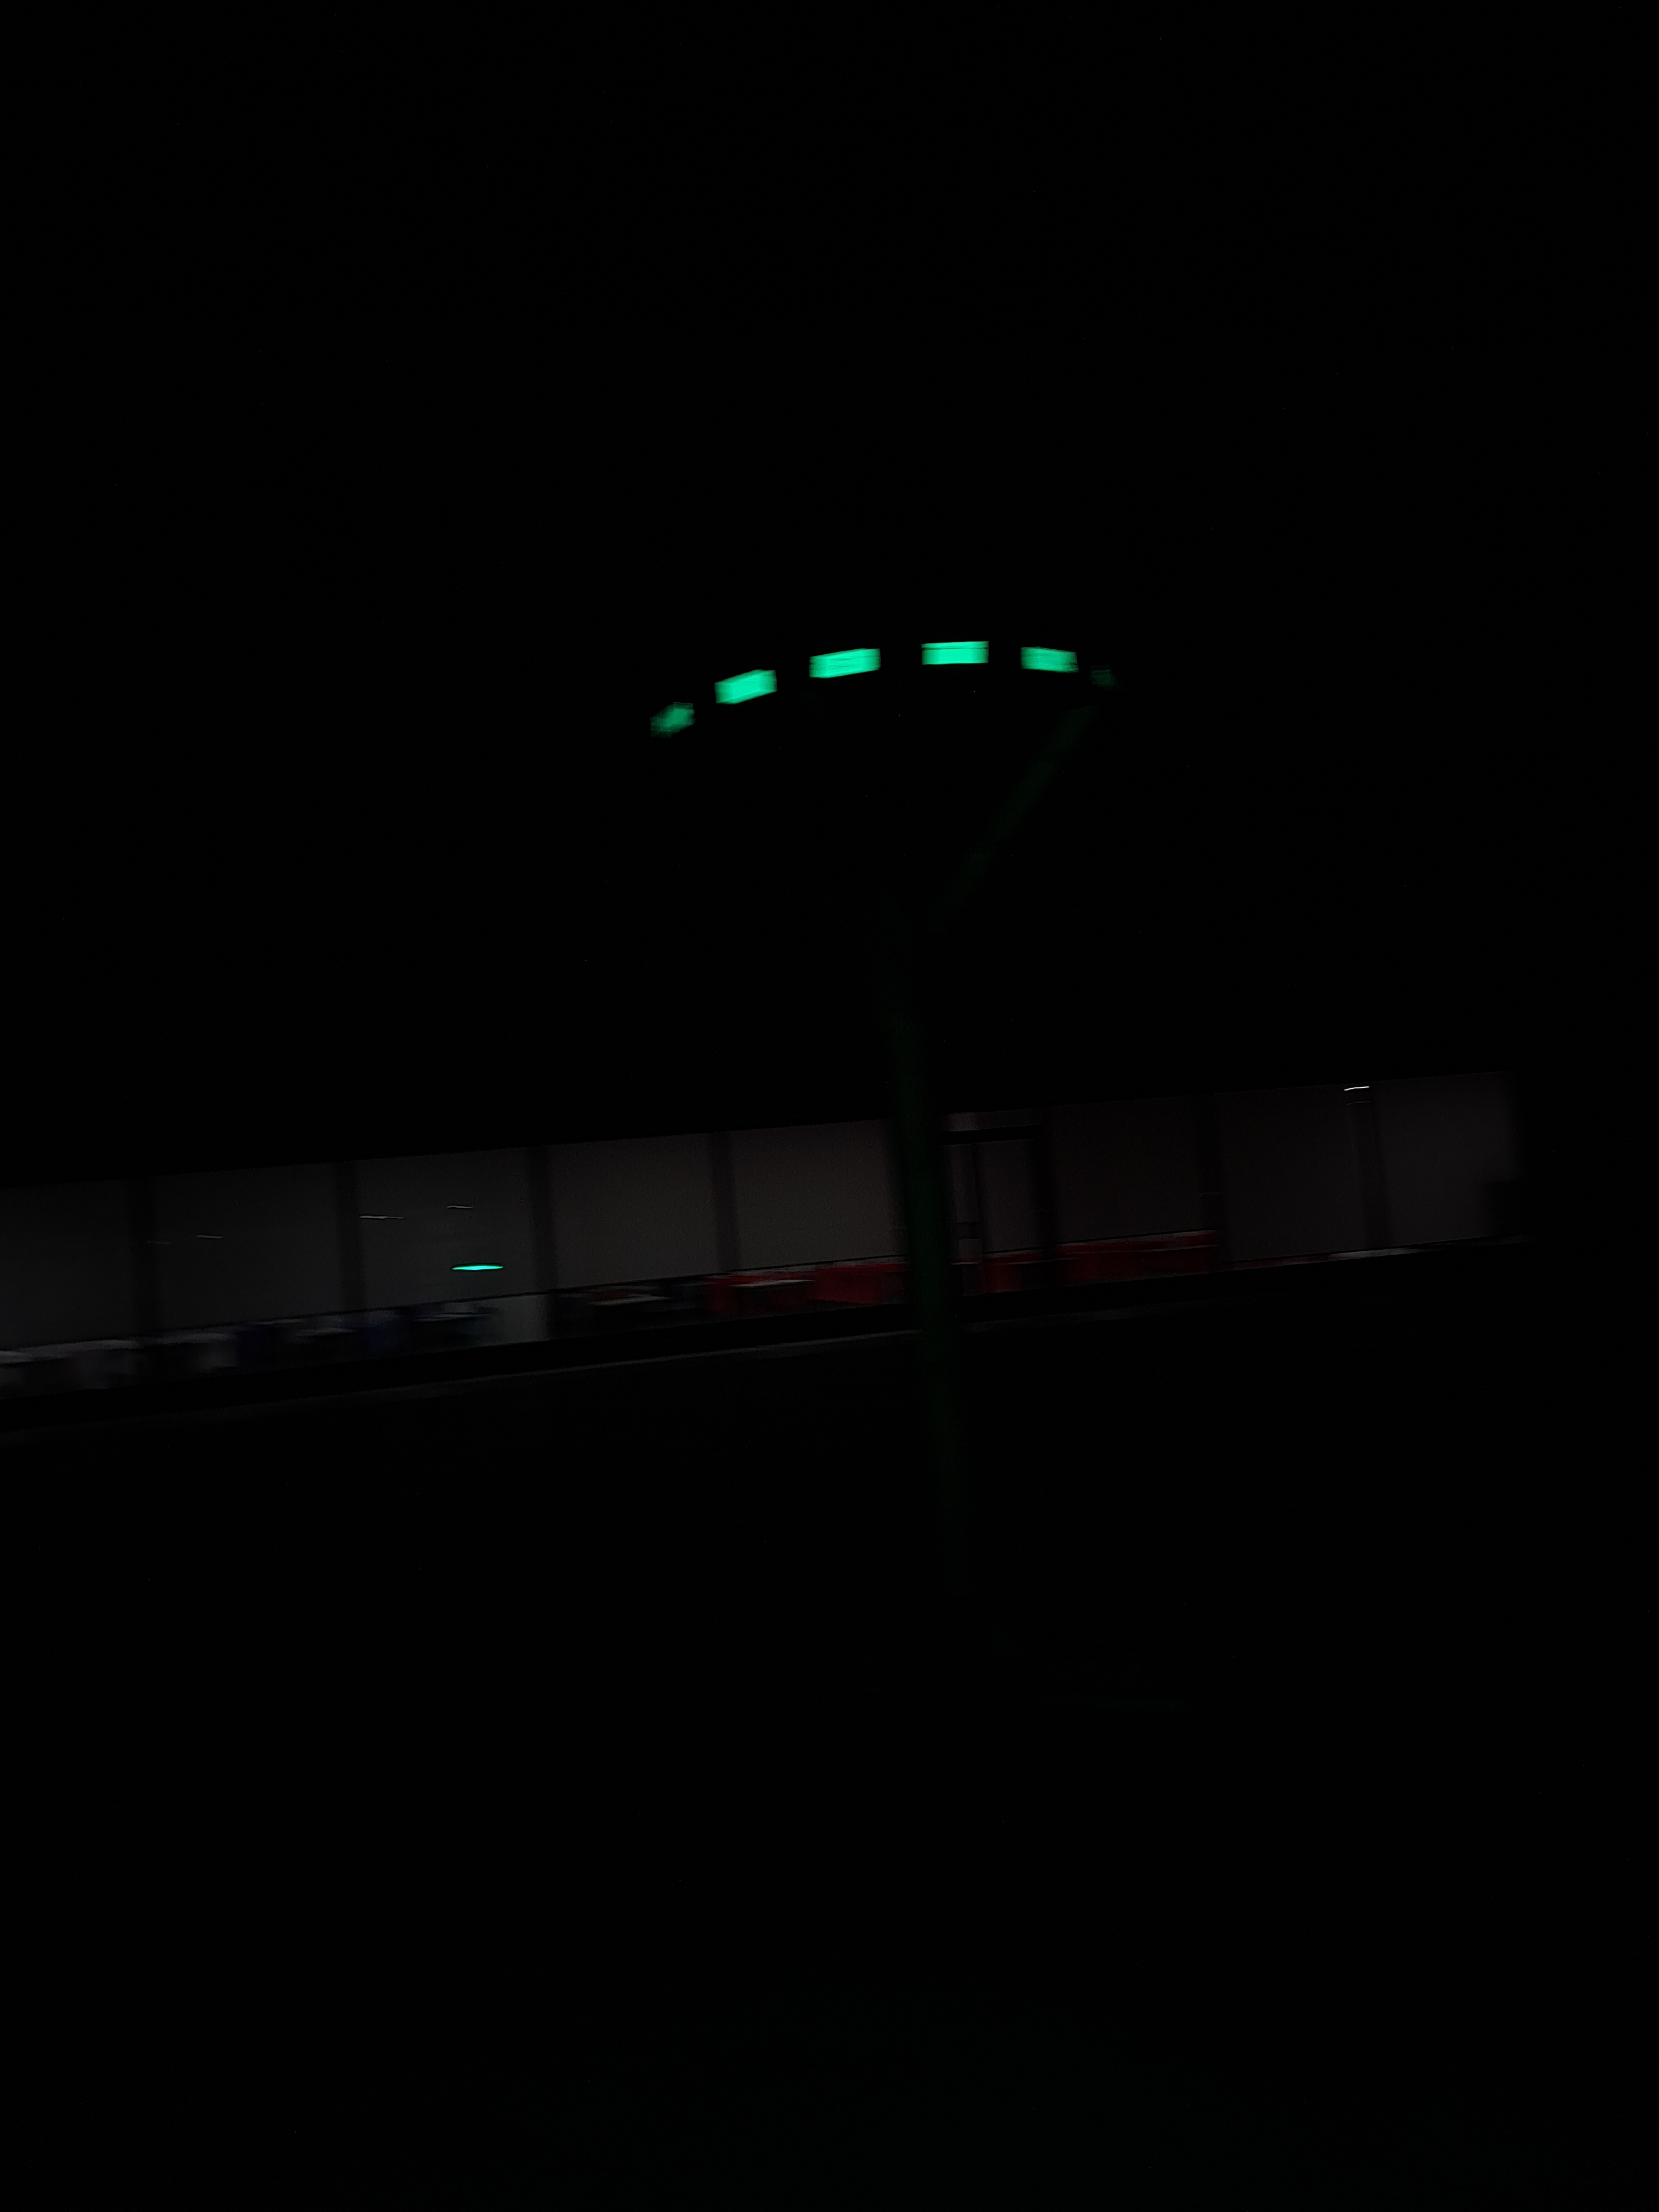hoop: (650, 634, 1087, 745)
